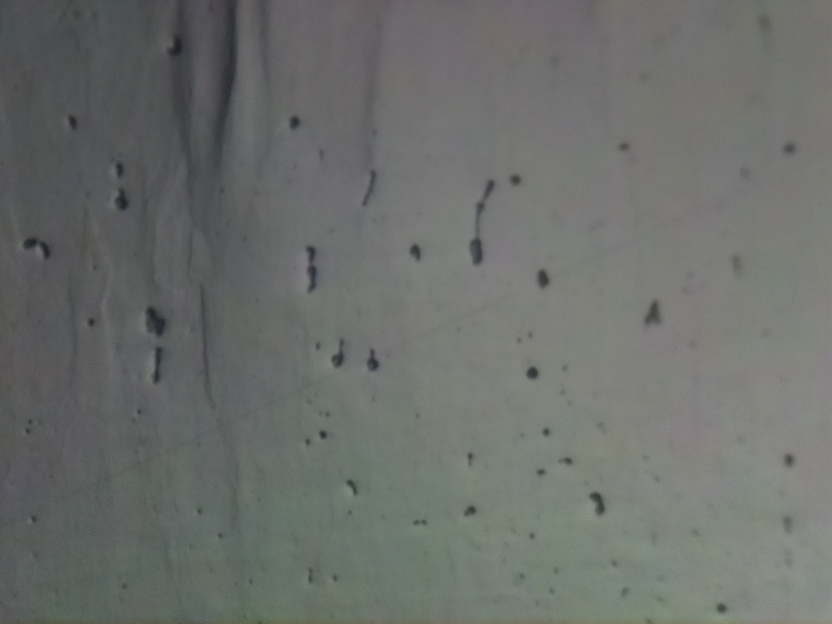crack: (213, 0, 246, 164)
